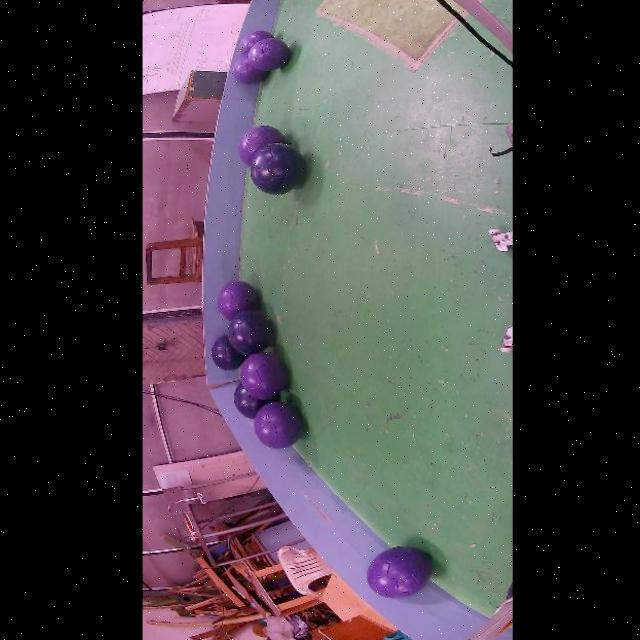B: (247, 144, 303, 195), (226, 311, 271, 356), (232, 383, 274, 419), (210, 335, 245, 371)
P: (365, 546, 430, 598), (253, 402, 300, 450), (238, 352, 285, 399), (236, 126, 284, 165), (215, 281, 256, 321), (246, 38, 289, 72), (232, 55, 267, 84), (238, 30, 271, 55)
